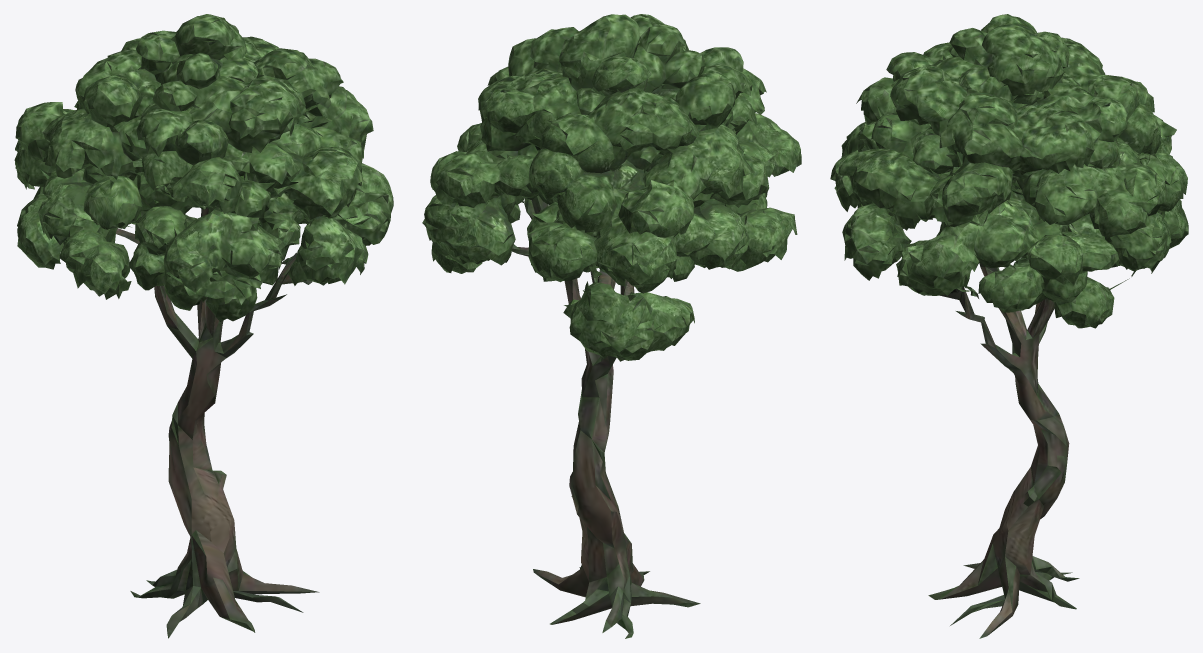
The model's file is tree-common-a.glb.
3 views of the same model, side by side, from view 1: azimuth 30°, elevation 25°; view 2: azimuth 150°, elevation 25°; view 3: azimuth 270°, elevation 25° (orthographic). The views are drawn at different scales.
Visible parts, largest first — view 1: Mesh_0; view 2: Mesh_0; view 3: Mesh_0.
Part boxes in pixels (x1,y1,x2,y2): Mesh_0: (14,14,393,638); Mesh_0: (422,14,801,638); Mesh_0: (830,14,1188,638).
Size of the model in its own units: 4.39 by 8 by 4.57.
Materials: 1 (1 with a texture image).
